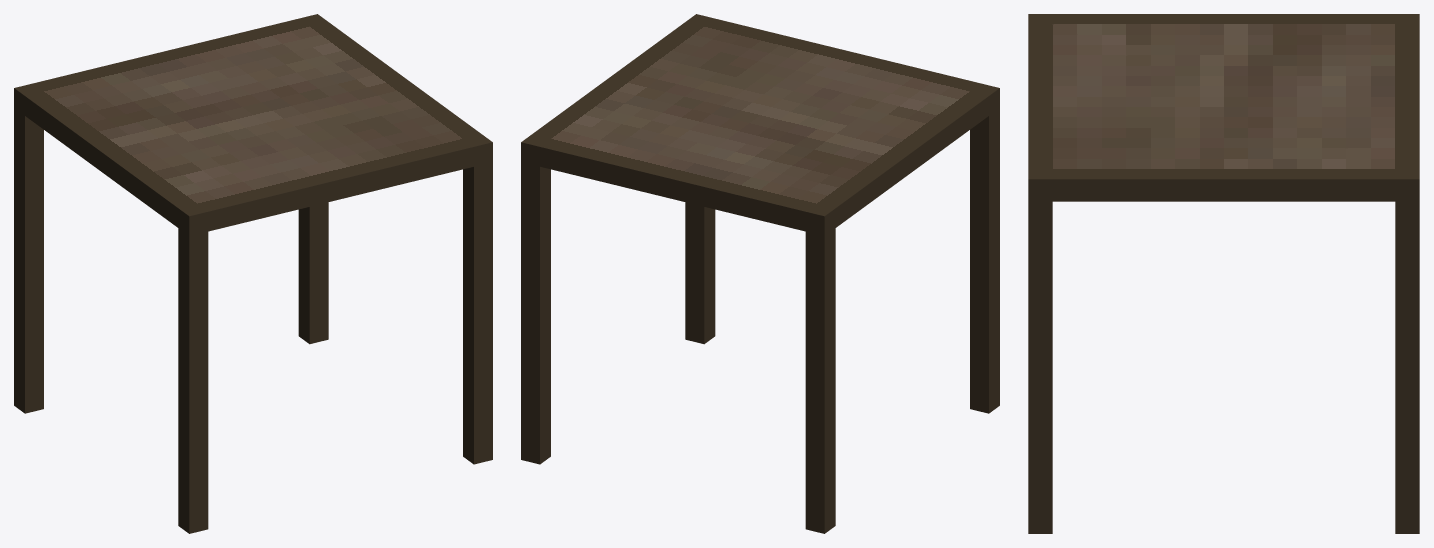
File: primitive_works.obj
The picture shows the model from 3 angles, left to right: view 1: azimuth 30°, elevation 25°; view 2: azimuth 150°, elevation 25°; view 3: azimuth 270°, elevation 25°; orthographic projection. The views are drawn at different scales.
Visible parts, largest first — view 1: cube; view 2: cube; view 3: cube.
Boxes of the visible parts, box(x1,y1,x2,y2) form: cube: box(14, 14, 492, 533); cube: box(521, 14, 999, 533); cube: box(1028, 14, 1419, 533).
Size of the model in its own units: 1 by 1 by 1.
2 materials, 1 textured.
